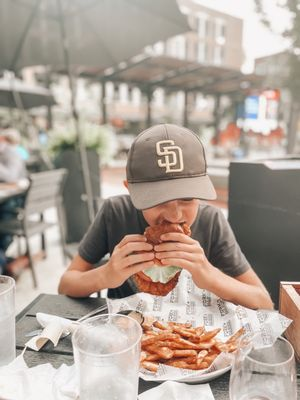pizza: (71, 313, 143, 399), (229, 337, 298, 400), (0, 275, 17, 367)
